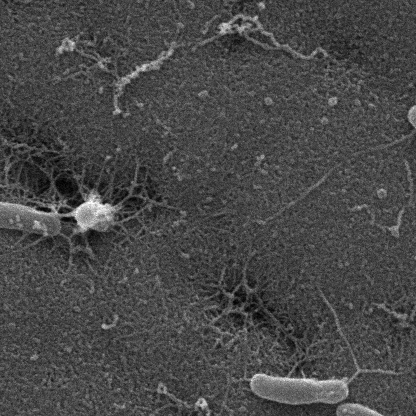cell2cell: (51, 212, 79, 220)
cell2surface: (343, 132, 416, 168), (343, 362, 391, 381), (415, 392, 416, 416)
regular: (252, 375, 351, 406), (0, 201, 63, 239), (338, 404, 416, 416), (18, 234, 48, 259), (409, 106, 416, 175)
spheroplast: (74, 201, 116, 232)
